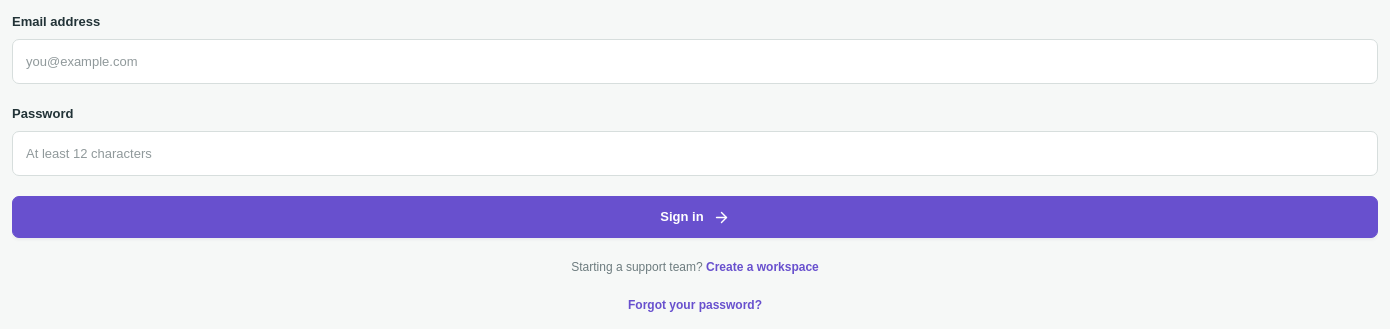
Scenario: connected form interactions › submits login credentials and disables while pending
Type "customer@example.com" into the field labelled "Email address" at {"x": 695, "y": 61}, box [12,38,1378,84]
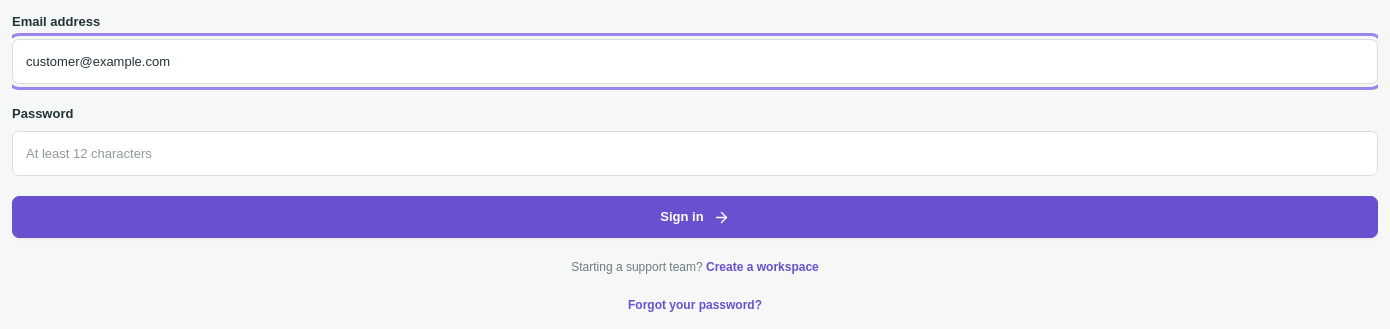
Type "long-test-password" into the password field labelled "Password" at {"x": 695, "y": 153}, box [12,130,1378,176]
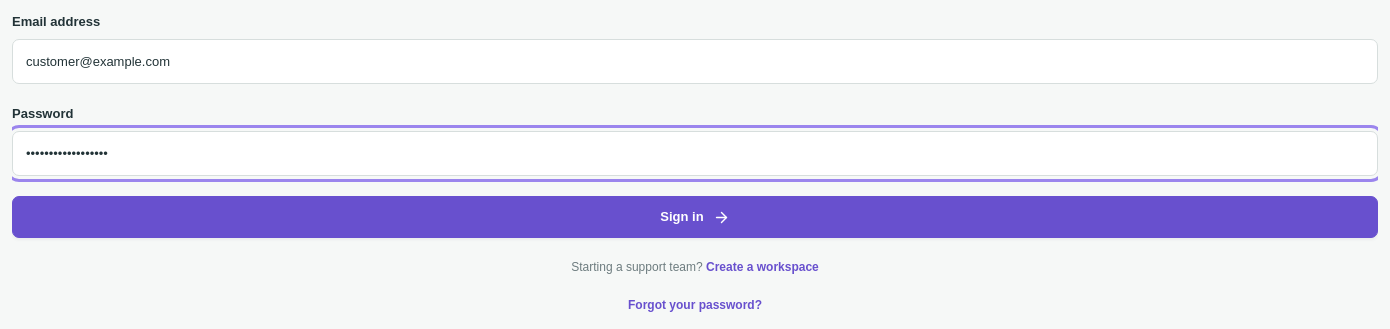
Click the button "Sign in" at {"x": 695, "y": 217}, box [12,196,1378,238]
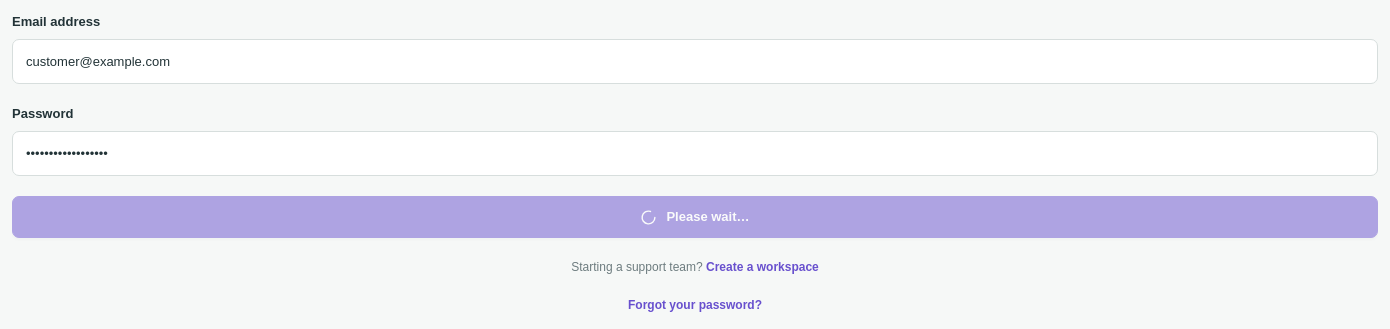
Check: the button "Please wait…" is disabled, box [12,196,1378,238]
